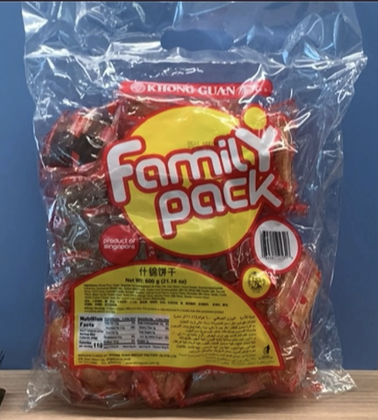cookies_600g-699g: (49, 90, 316, 381)
